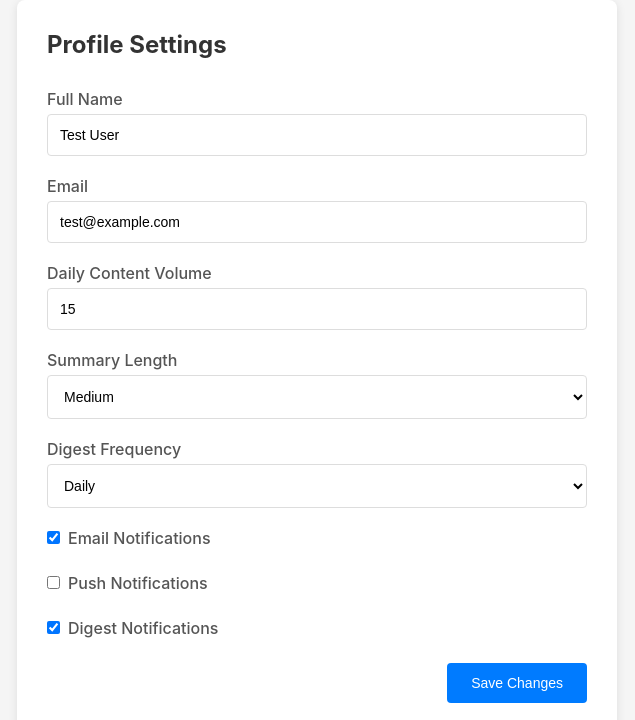
Test: ProfileForm › displays error message on update failure
Replace the text in the field labelled "Full Name" with "Updated Name" at (317, 135), box [47,114,587,156]
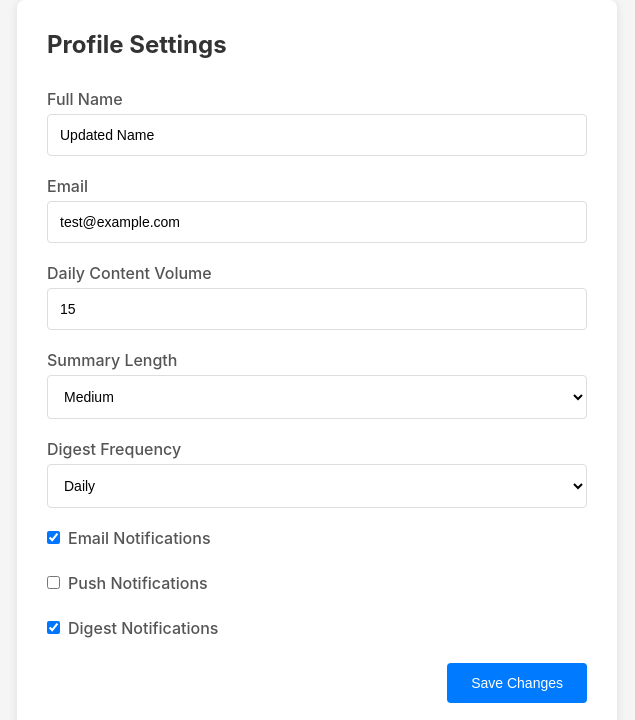
Click the button "Save Changes" at (517, 683), box [447,663,587,703]
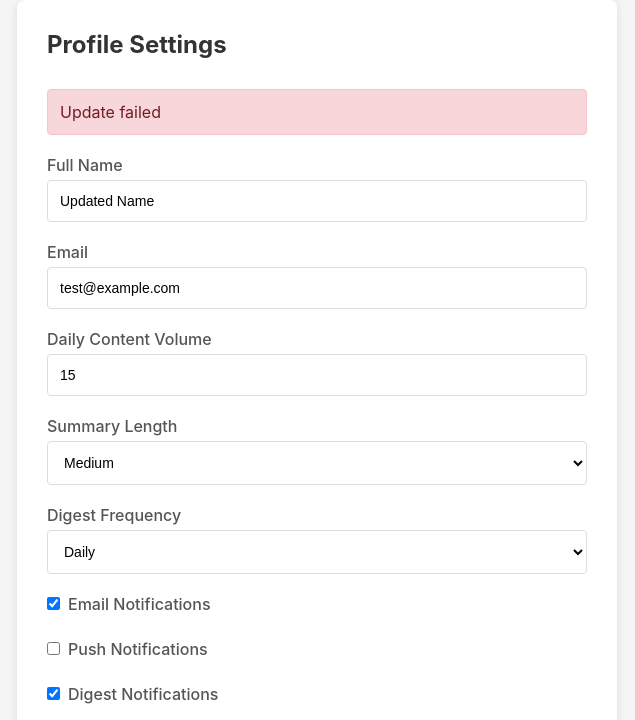
Result: the text "Update failed" is shown at [47,89,587,135]
